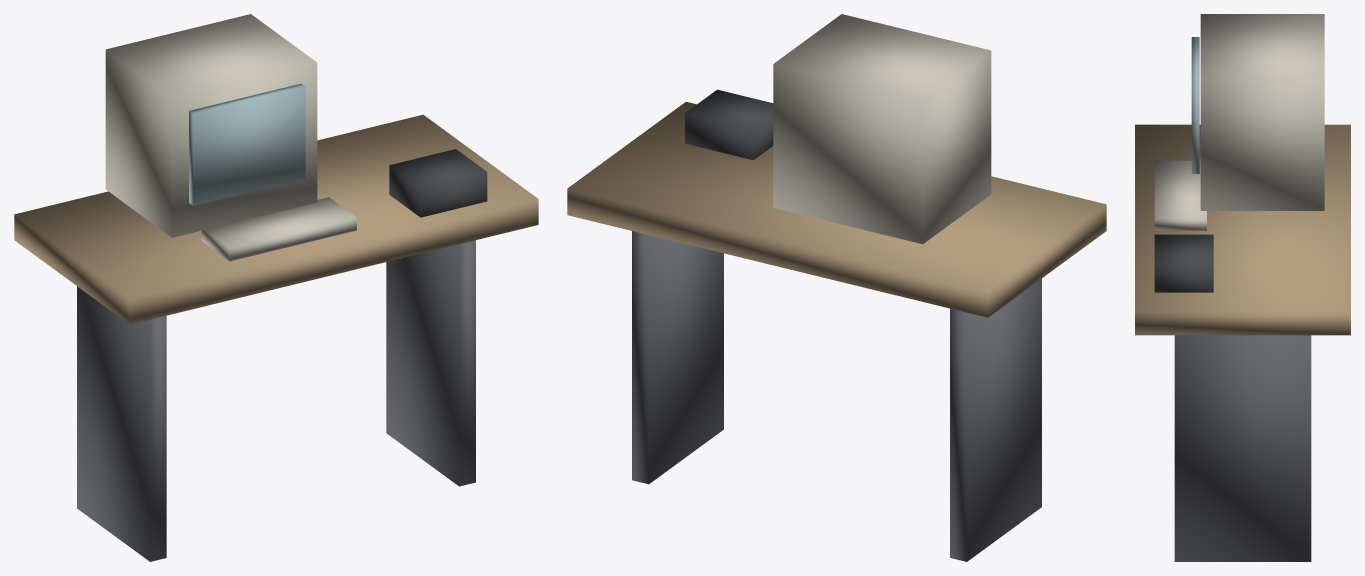
File: crt_workstation__tall.glb
The picture shows the model from 3 angles, left to right: view 1: azimuth 30°, elevation 25°; view 2: azimuth 150°, elevation 25°; view 3: azimuth 270°, elevation 25°; orthographic projection. The views are drawn at different scales.
Visible parts, largest first — view 1: world; view 2: world; view 3: world.
Boxes of the visible parts, x1,y1,x2,y2 form: world: (14,14,538,561); world: (567,14,1106,561); world: (1135,14,1350,561).
Bounding box in the file's own units: 1.35 × 1.4 × 0.66.
